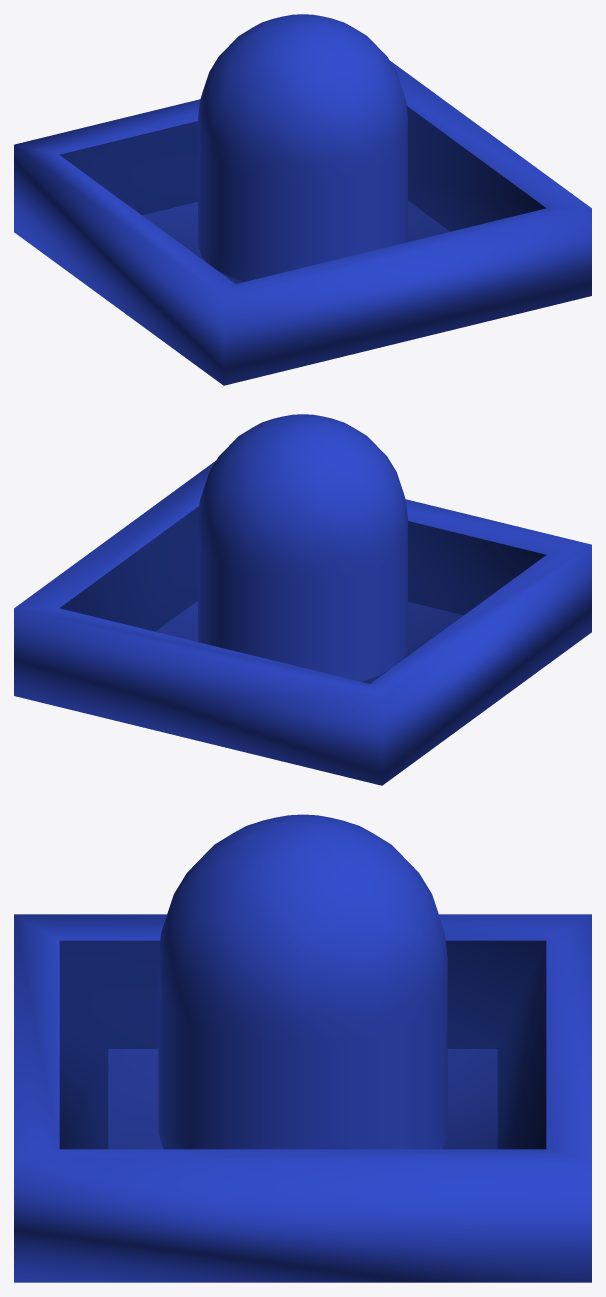
The model's file is bluesquarepaddle.obj.
3 views of the same model, one above another, from view 1: azimuth 30°, elevation 25°; view 2: azimuth 150°, elevation 25°; view 3: azimuth 270°, elevation 25° (orthographic). The views are drawn at different scales.
Visible parts, largest first — view 1: body, innerSides, innerBottom; view 2: body, innerSides, innerBottom; view 3: body, innerSides, innerBottom.
Boxes of the visible parts, x1=… form: body: x1=14, y1=14, x2=591, y2=385; innerSides: x1=59, y1=106, x2=546, y2=231; innerBottom: x1=142, y1=201, x2=450, y2=283; body: x1=14, y1=414, x2=591, y2=785; innerSides: x1=59, y1=506, x2=546, y2=631; innerBottom: x1=155, y1=601, x2=463, y2=683; body: x1=14, y1=814, x2=591, y2=1282; innerSides: x1=59, y1=940, x2=546, y2=1149; innerBottom: x1=108, y1=1049, x2=497, y2=1149.
Size of the model in its own units: 1.54 by 0.96 by 1.52.
3 materials, 3 textured.
